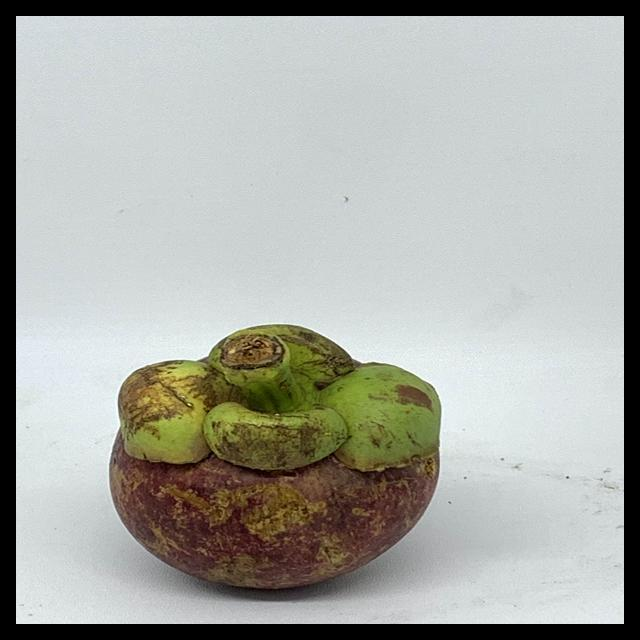mangosteen: (103, 308, 448, 593)
